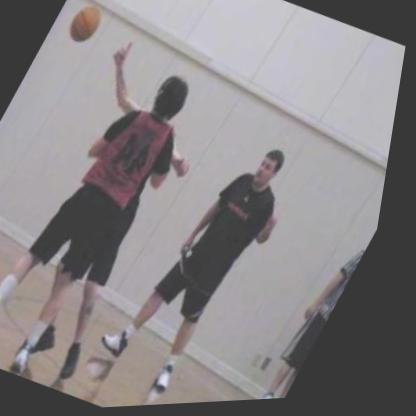basketball: (55, 2, 111, 53)
